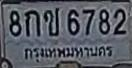2: (113, 8, 125, 34)
6: (67, 8, 79, 34)
7: (82, 8, 94, 34)
8: (8, 10, 20, 36), (98, 8, 109, 34)
A01: (24, 9, 40, 36)
A10: (43, 7, 59, 35)
BKK: (22, 43, 116, 62)
